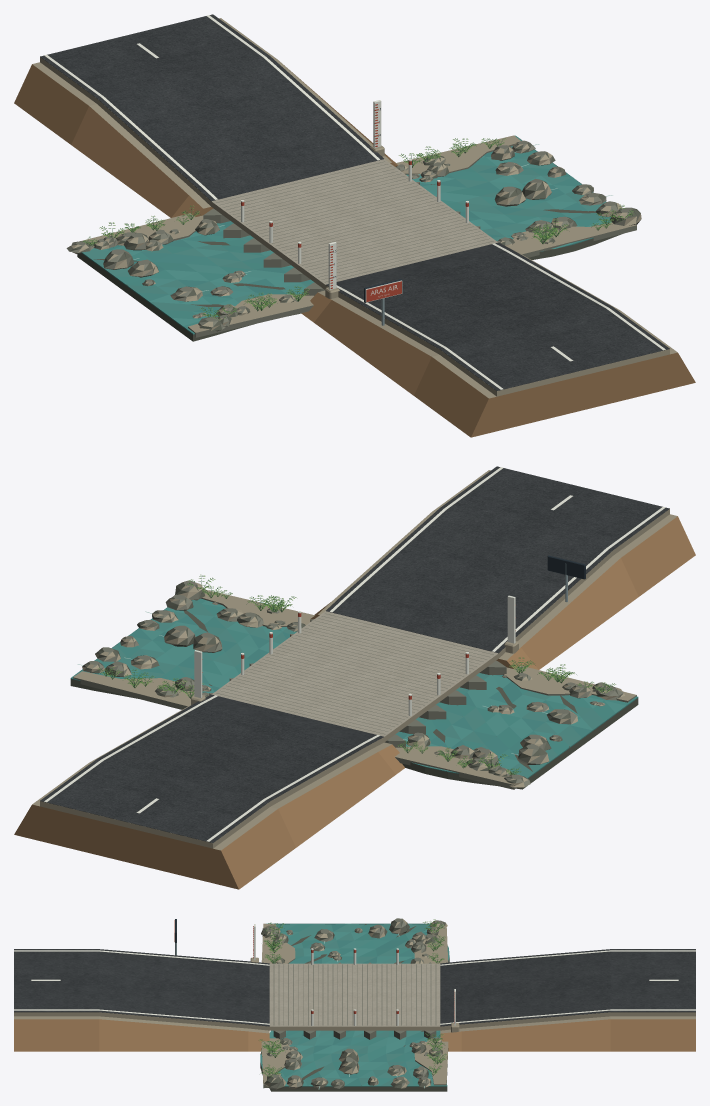
3 renders of one model, top to bottom at view 1: azimuth 30°, elevation 25°; view 2: azimuth 150°, elevation 25°; view 3: azimuth 270°, elevation 25°, orthographic. The views are drawn at different scales.
Parts seen in each view (by area): view 1: Ramp wearing course, Ramped fill, Concrete flood slab, River surface, River boulders, Gravel bars, Transverse traction grooves, Riverbank ferns, Edge paint, Cutaway riverbed, Vented cutwater webs, Graduated flood staff; view 2: Ramp wearing course, Ramped fill, Concrete flood slab, River surface, River boulders, Gravel bars, Transverse traction grooves, Riverbank ferns, Edge paint, Cutaway riverbed, Vented cutwater webs, Graduated flood staff; view 3: Ramp wearing course, Ramped fill, Concrete flood slab, River surface, River boulders, Gravel bars, Transverse traction grooves, Edge paint, Riverbank ferns, Cutaway riverbed, Vented cutwater webs, Waterline.
Part boxes in pixels (box(x1,y1,x2,y2)): Ramp wearing course: box(40, 14, 669, 390); Ramped fill: box(14, 18, 695, 437); Concrete flood slab: box(40, 57, 669, 396); River surface: box(82, 135, 611, 333); River boulders: box(66, 140, 641, 331); Gravel bars: box(82, 135, 636, 337); Transverse traction grooves: box(216, 161, 493, 282); Riverbank ferns: box(83, 138, 633, 320); Edge paint: box(44, 15, 665, 389); Cutaway riverbed: box(77, 184, 621, 341); Vented cutwater webs: box(203, 167, 500, 295); Graduated flood staff: box(328, 100, 381, 289); Ramp wearing course: box(40, 466, 669, 842); Ramped fill: box(14, 470, 695, 889); Concrete flood slab: box(40, 509, 669, 848); River surface: box(71, 598, 637, 777); River boulders: box(82, 580, 624, 787); Gravel bars: box(73, 589, 636, 789); Transverse traction grooves: box(216, 613, 493, 734); Riverbank ferns: box(98, 574, 615, 774); Edge paint: box(44, 467, 665, 841); Cutaway riverbed: box(70, 610, 638, 789); Vented cutwater webs: box(209, 619, 506, 747); Graduated flood staff: box(194, 595, 515, 697); Ramp wearing course: box(14, 949, 695, 1026); Ramped fill: box(14, 1016, 695, 1051); Concrete flood slab: box(14, 963, 695, 1030); River surface: box(260, 923, 449, 1085); River boulders: box(261, 918, 447, 1089); Gravel bars: box(261, 923, 448, 1088); Transverse traction grooves: box(273, 964, 436, 1025); Edge paint: box(14, 950, 695, 1024); Riverbank ferns: box(259, 919, 447, 1077); Cutaway riverbed: box(260, 924, 449, 1091); Vented cutwater webs: box(273, 962, 436, 1039); Waterline: box(260, 923, 447, 1086).
Size of the model in its own units: 18.8 by 2.75 by 32.
Materials: 19 (2 with a texture image).
